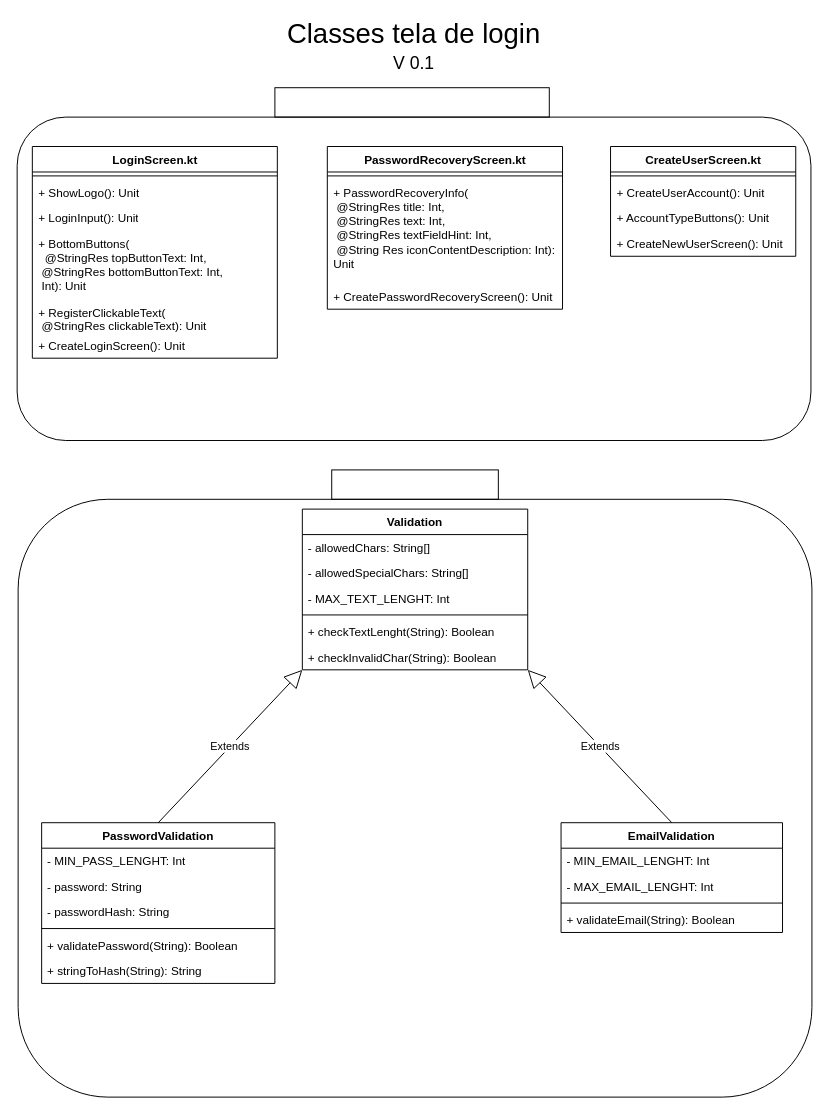
Some shapes in this 829 by 1114 pixel diagram are drawn without their labels. Here are the shapes that lost their labels. From the top down, the centre of each, then its label:
At [411,102]: "Classes de interface de usuáriro".
At [414,484]: "Classes de Modelo".
